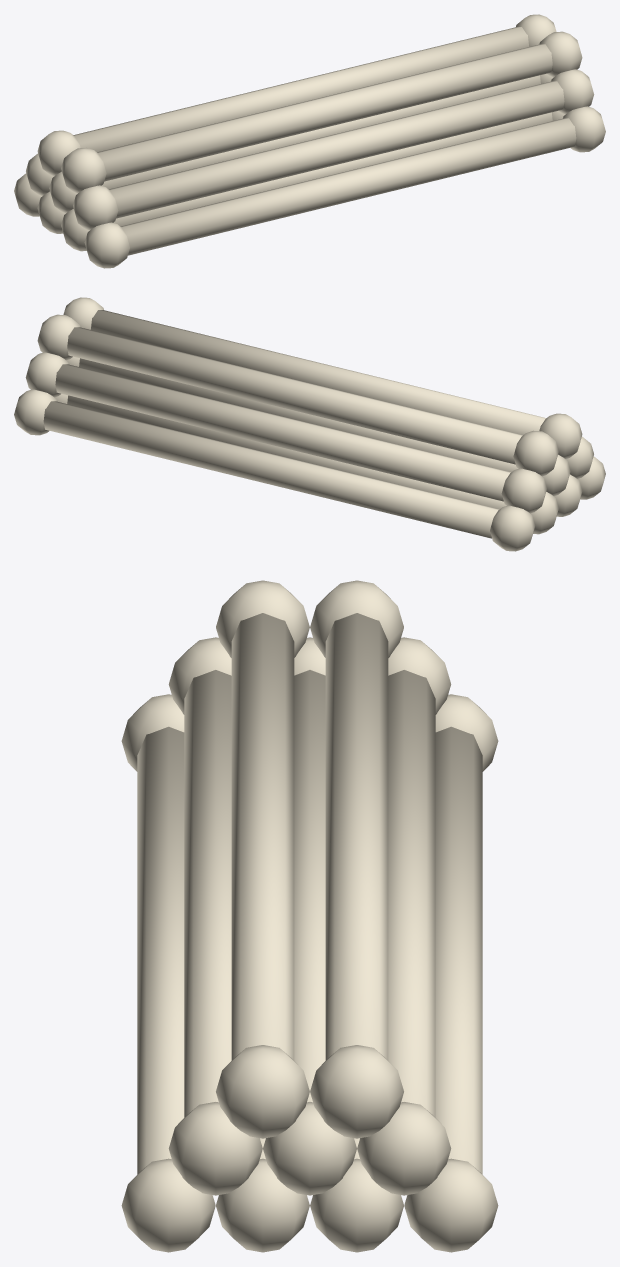
The model's file is bone_heap_femur_stack.glb.
3 views of the same model, one above another, from view 1: azimuth 30°, elevation 25°; view 2: azimuth 150°, elevation 25°; view 3: azimuth 270°, elevation 25° (orthographic). The views are drawn at different scales.
Parts seen in each view (by area): view 1: GD_bone_heap_femur_stack__m0; view 2: GD_bone_heap_femur_stack__m0; view 3: GD_bone_heap_femur_stack__m0.
Part boxes in pixels (left/top/right/bottom): GD_bone_heap_femur_stack__m0: left=14, top=14, right=605, bottom=268; GD_bone_heap_femur_stack__m0: left=14, top=297, right=605, bottom=551; GD_bone_heap_femur_stack__m0: left=121, top=580, right=498, bottom=1252.
Size of the model in its own units: 0.76 by 0.14 by 0.24.
